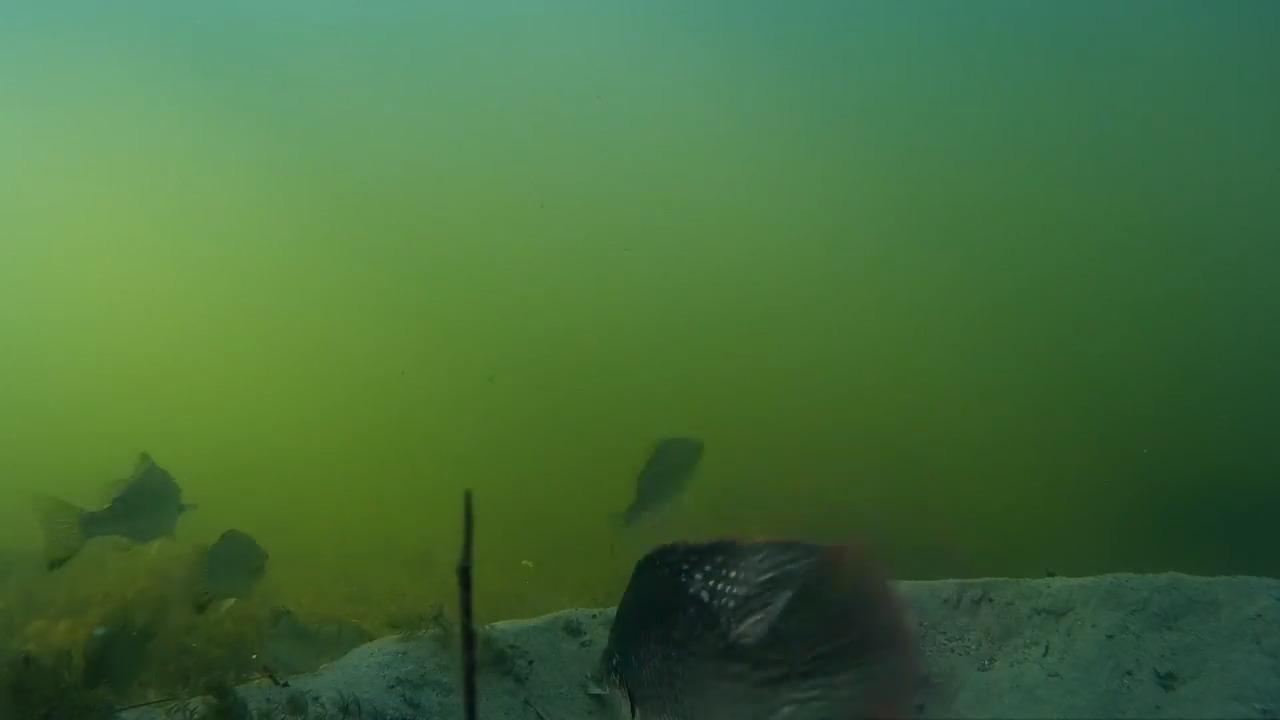Tilapia: (596, 529, 880, 720), (23, 441, 222, 603), (597, 418, 710, 540), (166, 514, 295, 606)
